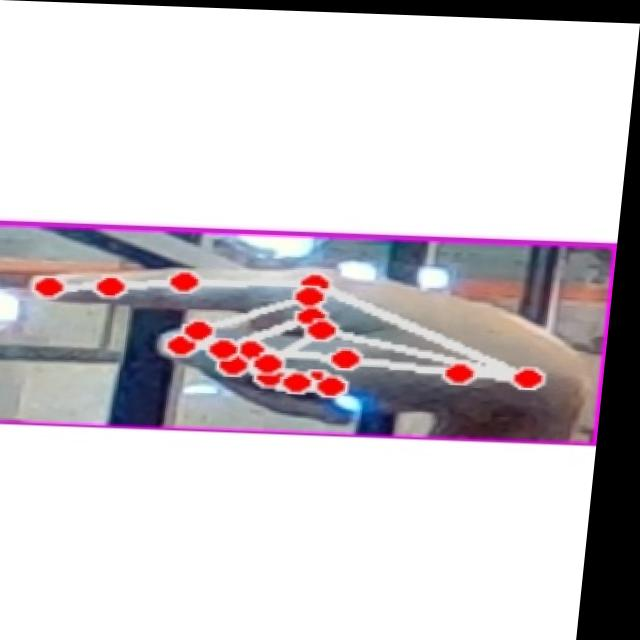G: (15, 252, 605, 425)
